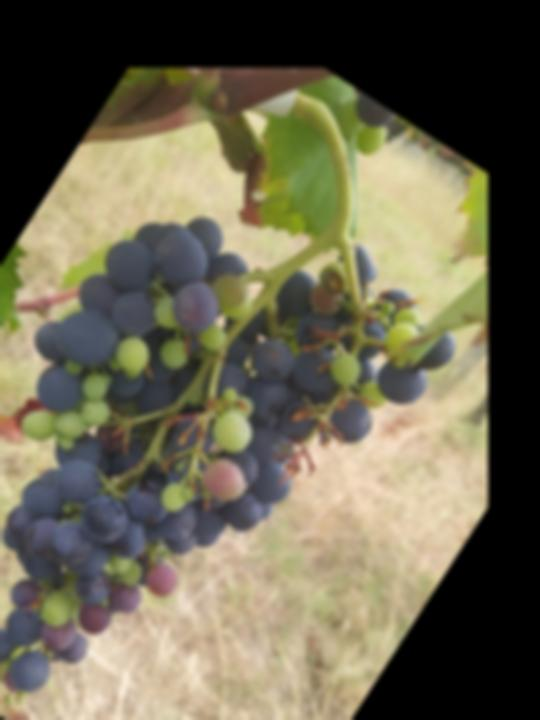grape: (0, 117, 484, 720)
